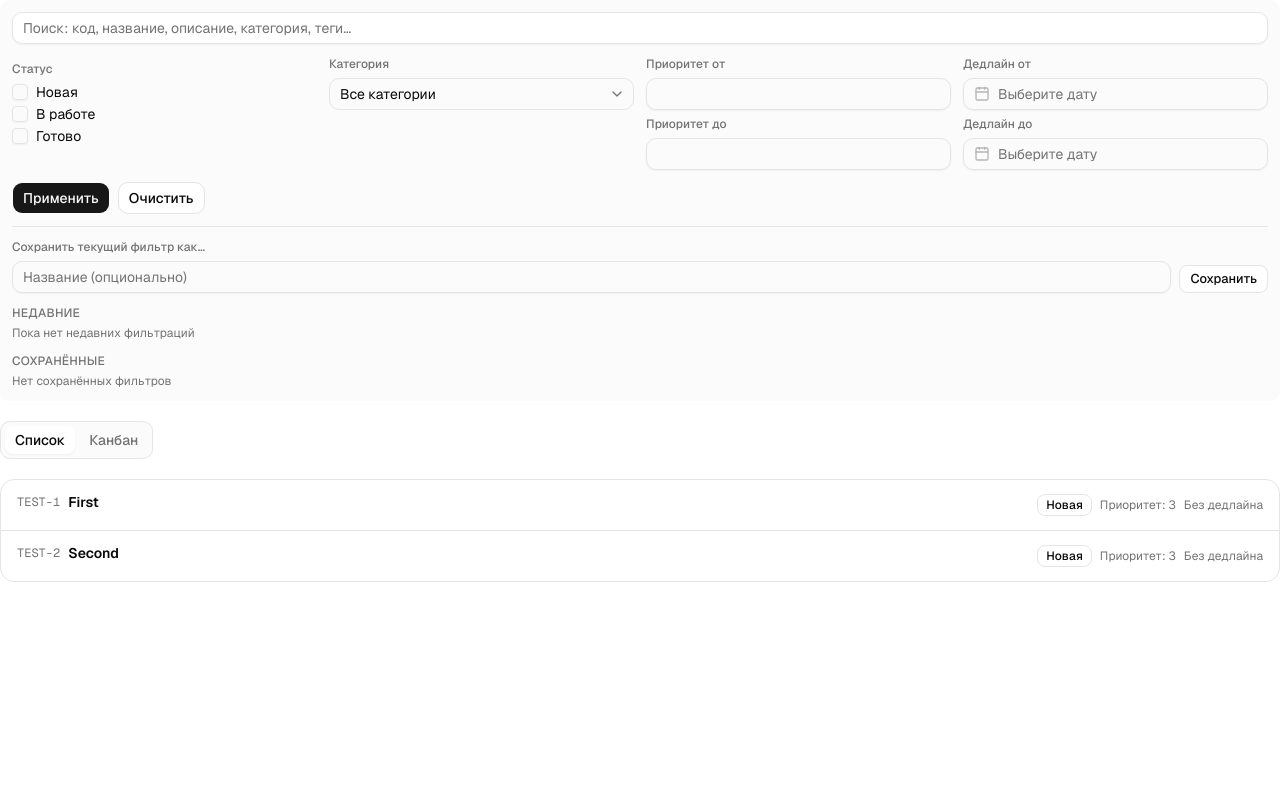
Scenario: TaskList › opens the task detail dialog for the clicked task
The image size is (1280, 800).
Click the button with test id "task-row": coordinates (39, 553) [1,531,1279,581]
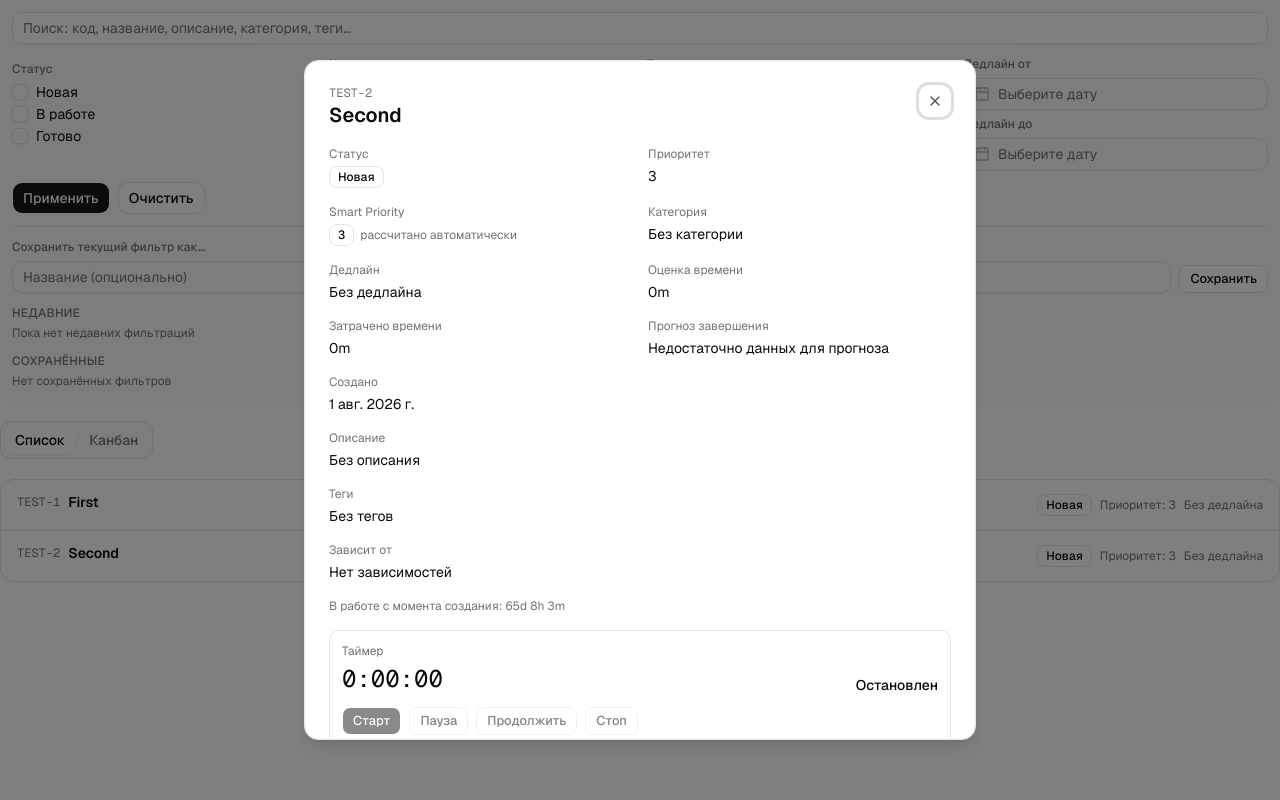
Check: the dialog does not show "First", box [304,60,976,740]
Check: the dialog shows "TEST-2", box [329,85,372,101]
Check: the dialog shows "Second", box [329,102,402,128]
